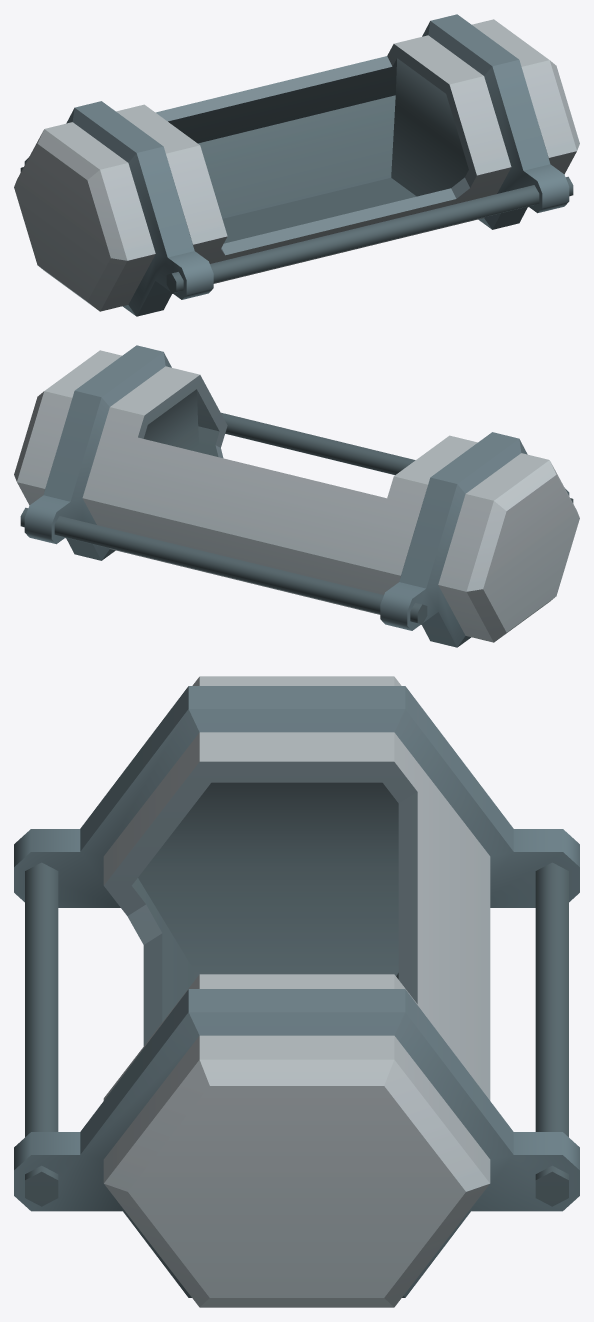
File: Crate_003.fbx
3 renders of one model, top to bottom at view 1: azimuth 30°, elevation 25°; view 2: azimuth 150°, elevation 25°; view 3: azimuth 270°, elevation 25°, orthographic. The views are drawn at different scales.
Visible parts, largest first — view 1: Crate_003; view 2: Crate_003; view 3: Crate_003.
Boxes of the visible parts, <box> form: Crate_003: <box>14,14,579,316</box>; Crate_003: <box>14,345,579,647</box>; Crate_003: <box>14,676,579,1307</box>.
Bounding box in the file's own units: 120 × 71.78 × 40.
